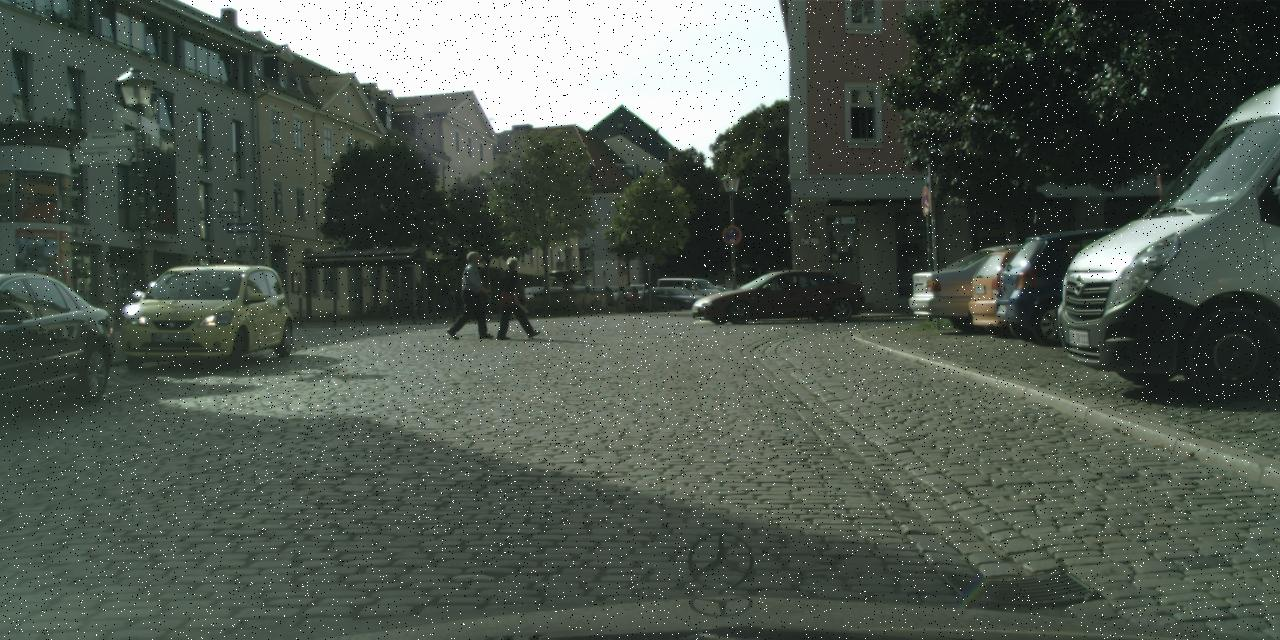ped: (453, 251, 488, 337), (500, 256, 532, 338), (439, 280, 453, 314)
